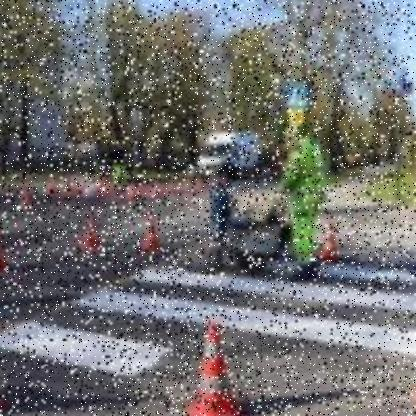Pedestrian Crossing: (285, 83, 310, 108)
